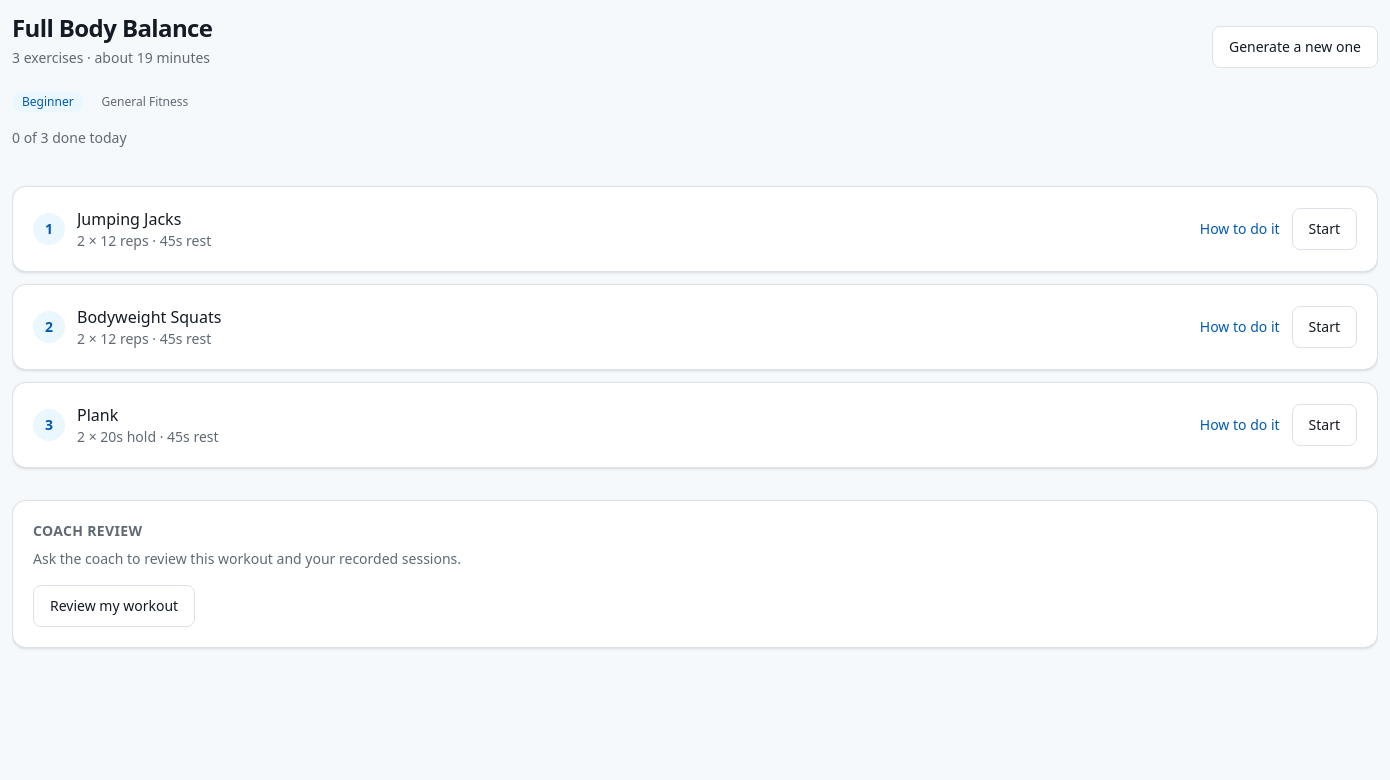
Test: the workout page › shows the new plan after generating a different one
Expected: the heading "Full Body Balance" is shown, [12,12,212,44]
Click the button "Generate a new one".
click(1295, 47)  # box [1212,26,1378,68]
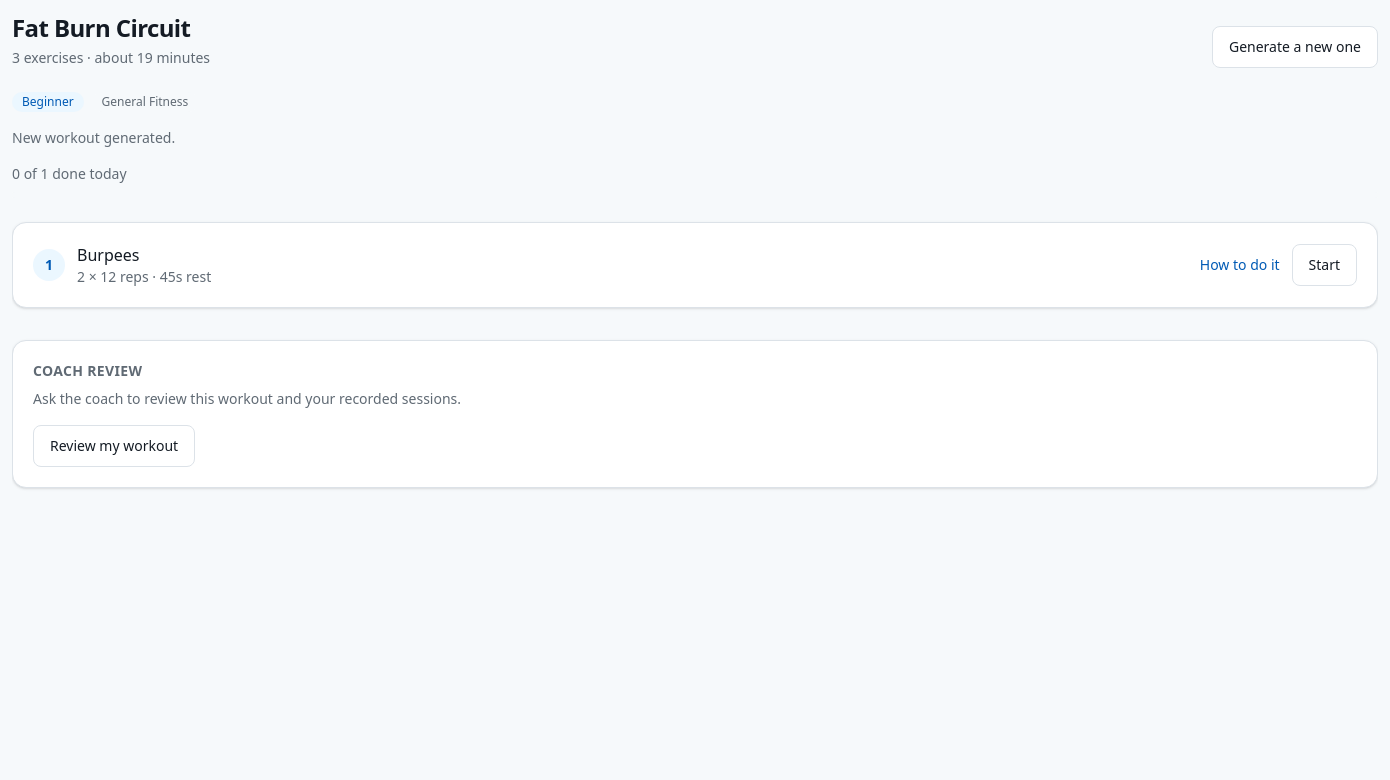
Now the heading "Fat Burn Circuit" is shown, box [12,12,210,44]
Now the text "Burpees" is shown, box [77,243,140,267]
Now the heading "Full Body Balance" is gone
